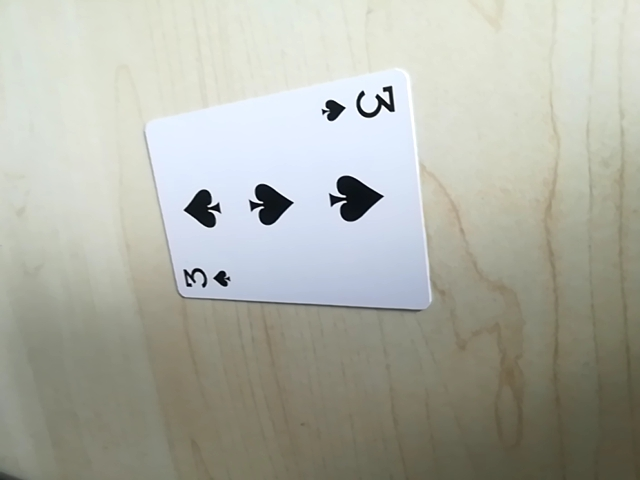ht 3: (318, 83, 399, 129), (174, 262, 234, 296)
